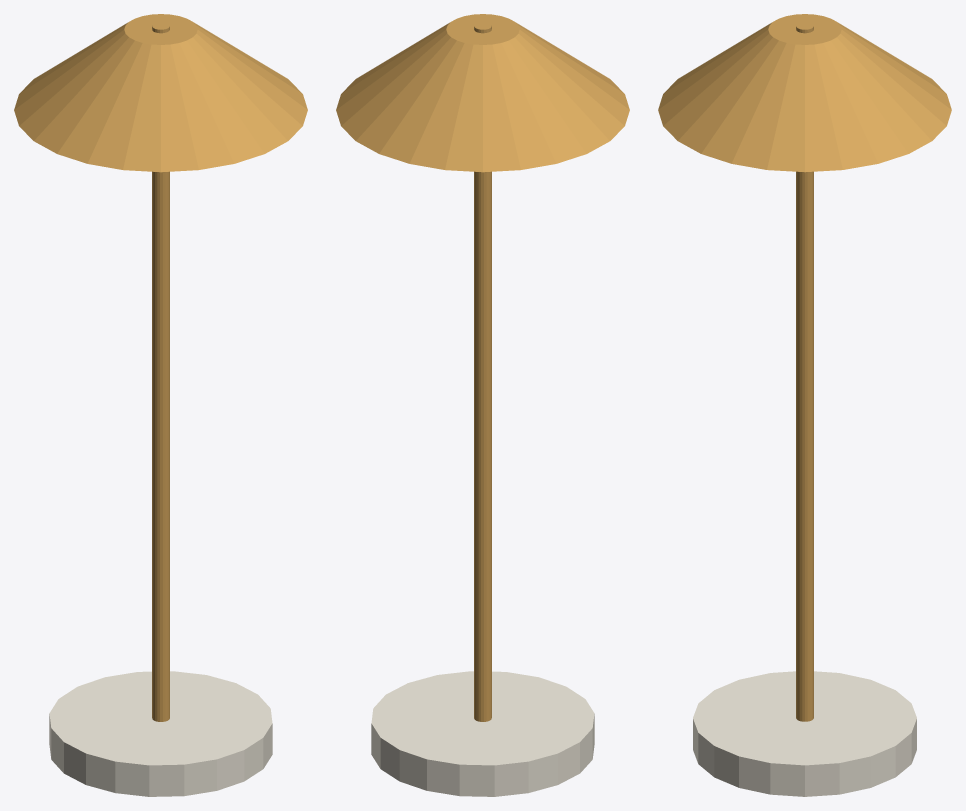
File: hiperreal-hd.glb
The picture shows the model from 3 angles, left to right: view 1: azimuth 30°, elevation 25°; view 2: azimuth 150°, elevation 25°; view 3: azimuth 270°, elevation 25°; orthographic projection.
Visible parts, largest first — view 1: Native component 1, Native component 0; view 2: Native component 1, Native component 0; view 3: Native component 1, Native component 0.
Boxes of the visible parts, x1,y1,x2,y2 form: Native component 1: [14, 14, 307, 721]; Native component 0: [49, 671, 272, 796]; Native component 1: [336, 14, 629, 721]; Native component 0: [371, 671, 594, 796]; Native component 1: [658, 14, 951, 721]; Native component 0: [693, 671, 916, 796].
Size of the model in its own units: 0.76 by 2.06 by 0.76.
